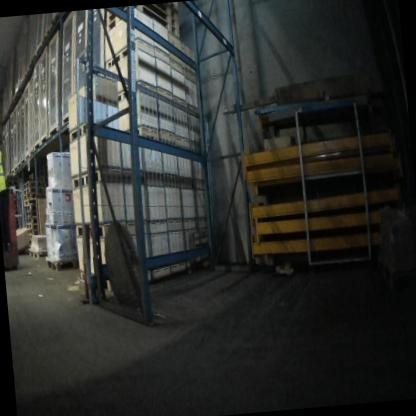pallet: (46, 256, 80, 272), (49, 12, 62, 29), (23, 186, 45, 196), (23, 180, 44, 190), (29, 248, 48, 259), (41, 26, 52, 43), (23, 192, 36, 202), (24, 204, 36, 213), (25, 210, 37, 219), (23, 67, 31, 80), (24, 198, 36, 206), (25, 216, 37, 224), (26, 223, 38, 231), (27, 229, 39, 236), (19, 78, 26, 88), (12, 93, 17, 102), (8, 101, 13, 110), (16, 88, 21, 96), (28, 234, 33, 240)
pallet_truck: (0, 185, 20, 271)
